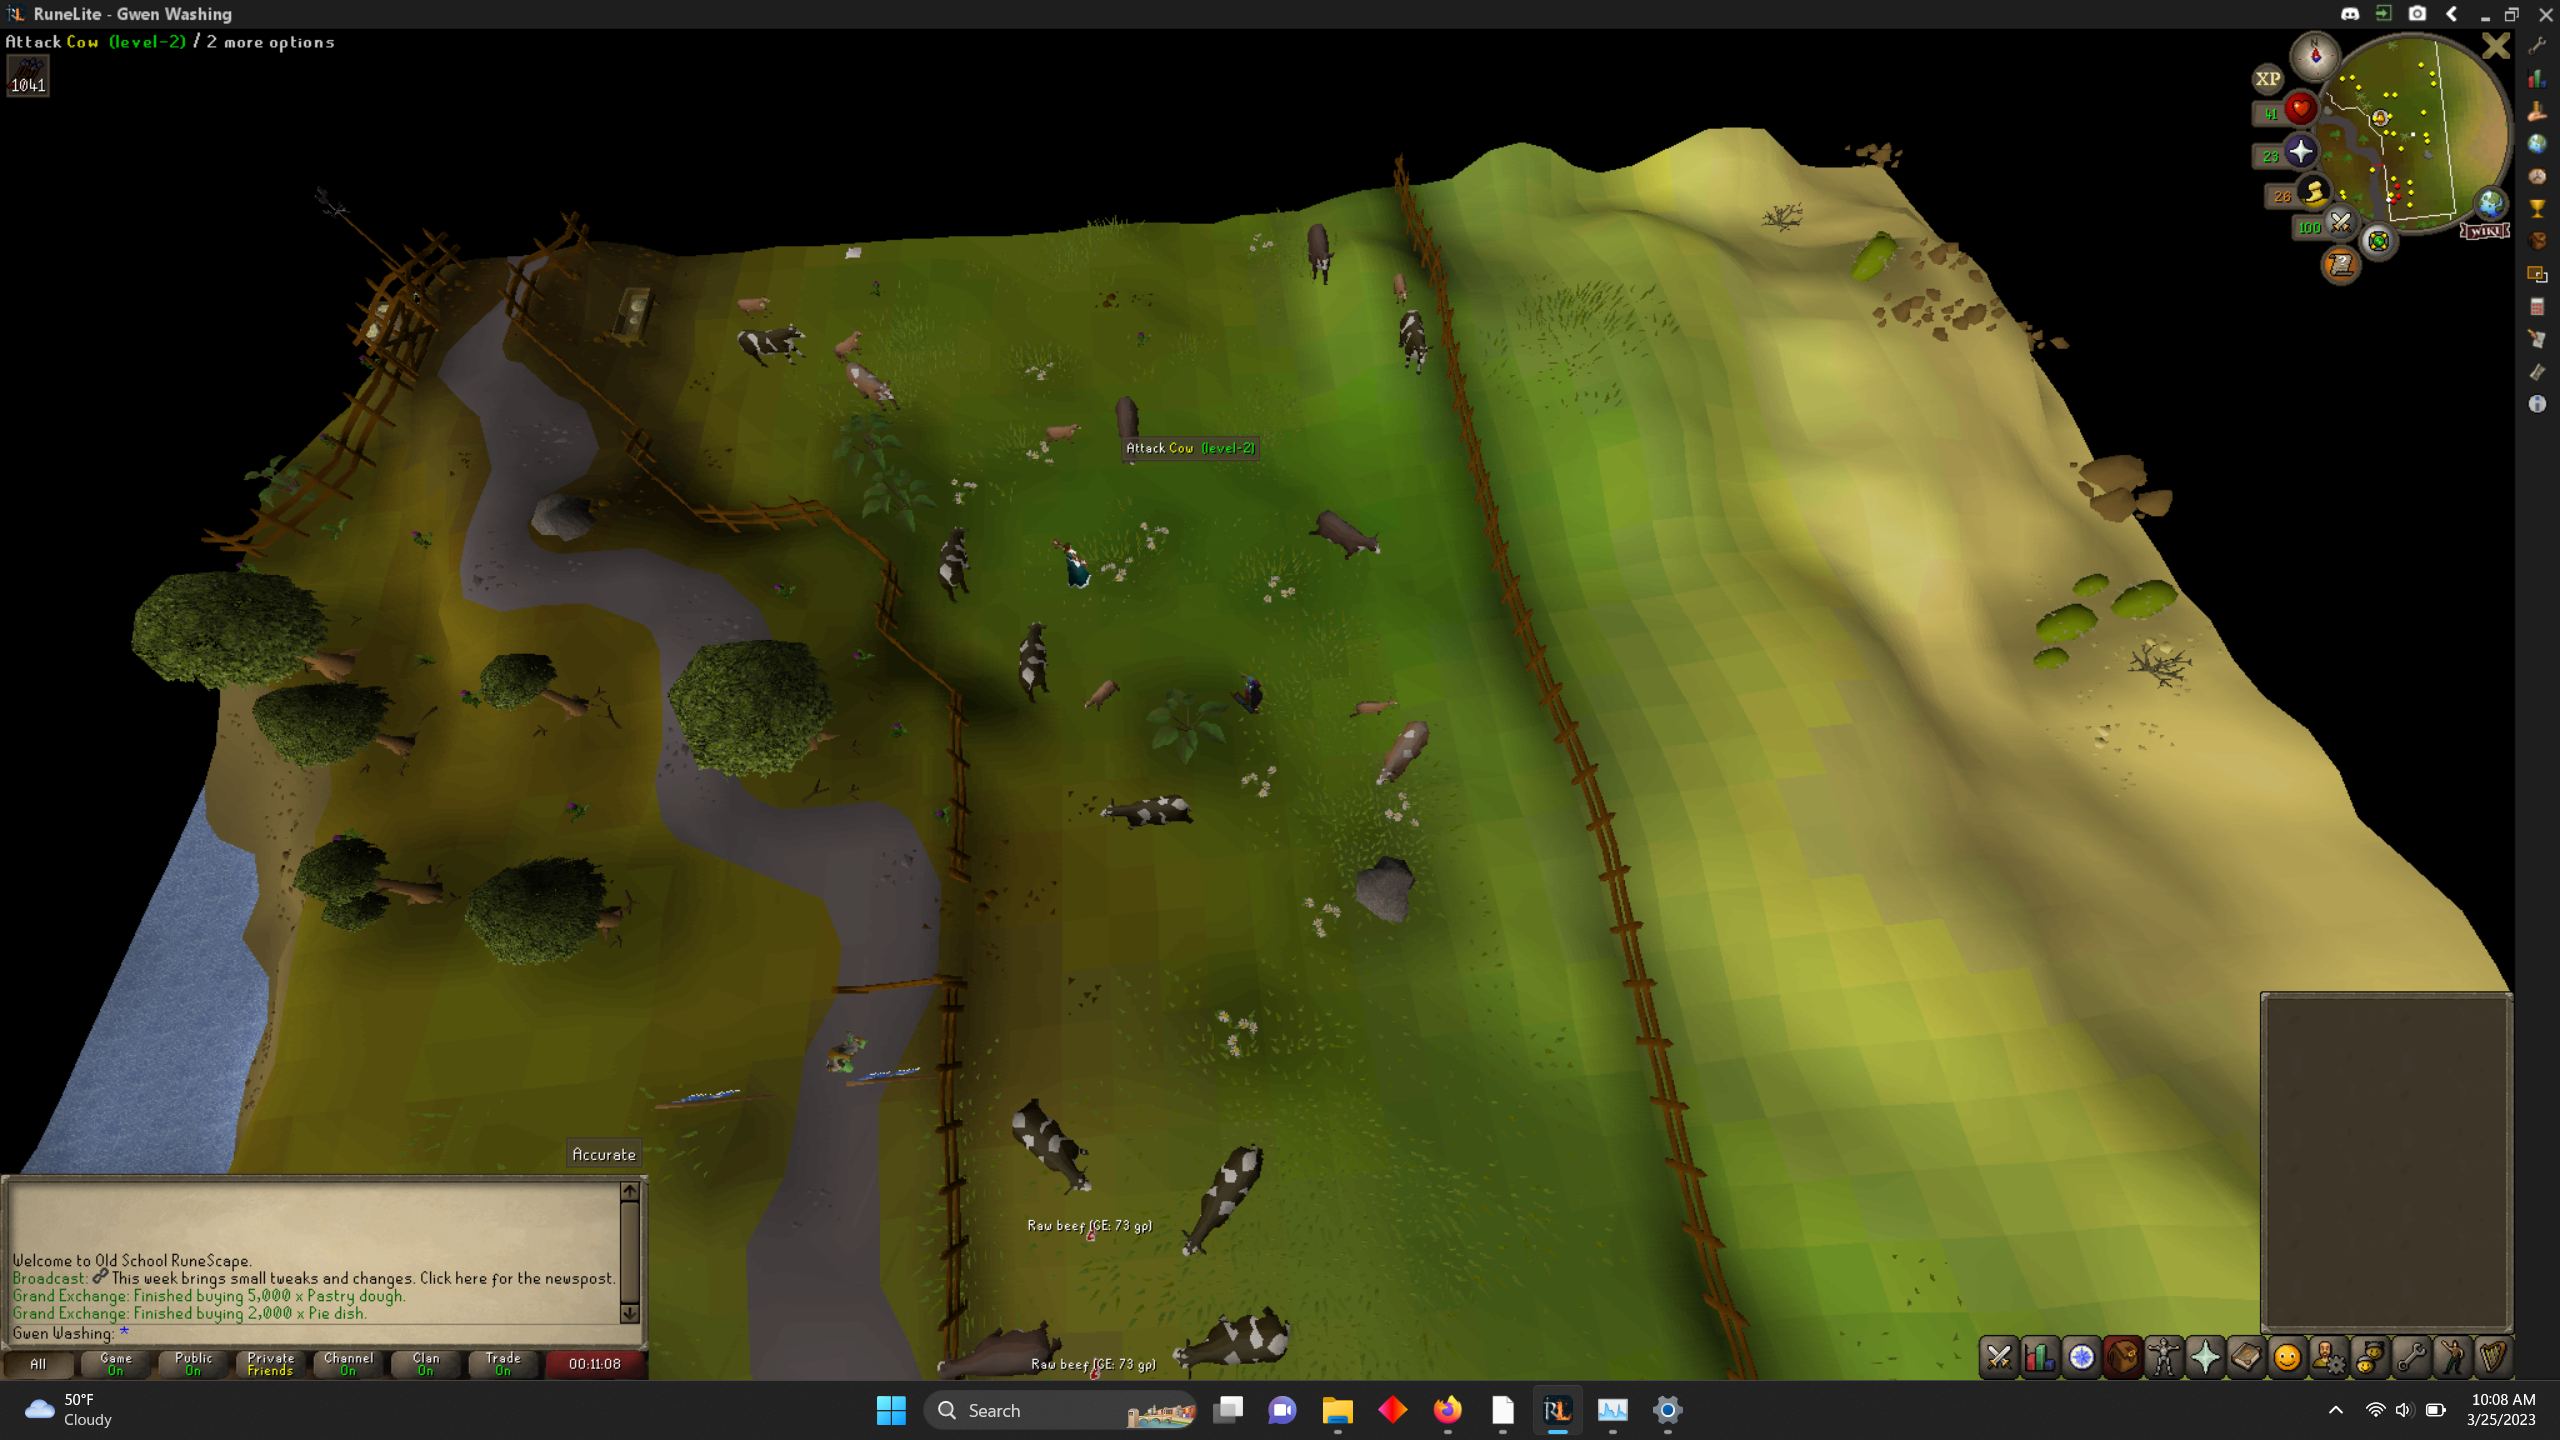cow: (1175, 1136, 1273, 1264), (1002, 1095, 1102, 1203), (1169, 1299, 1296, 1377), (930, 1315, 1071, 1378), (1094, 788, 1206, 840), (1373, 714, 1440, 795), (1306, 506, 1393, 563), (1011, 614, 1057, 717), (930, 520, 979, 608), (737, 322, 812, 373), (846, 362, 911, 420), (1106, 387, 1143, 466), (1394, 309, 1435, 375), (1303, 216, 1336, 285), (1081, 672, 1129, 719), (1039, 417, 1085, 454), (828, 322, 863, 366), (1350, 695, 1405, 723), (731, 290, 775, 318), (1385, 265, 1412, 302)
